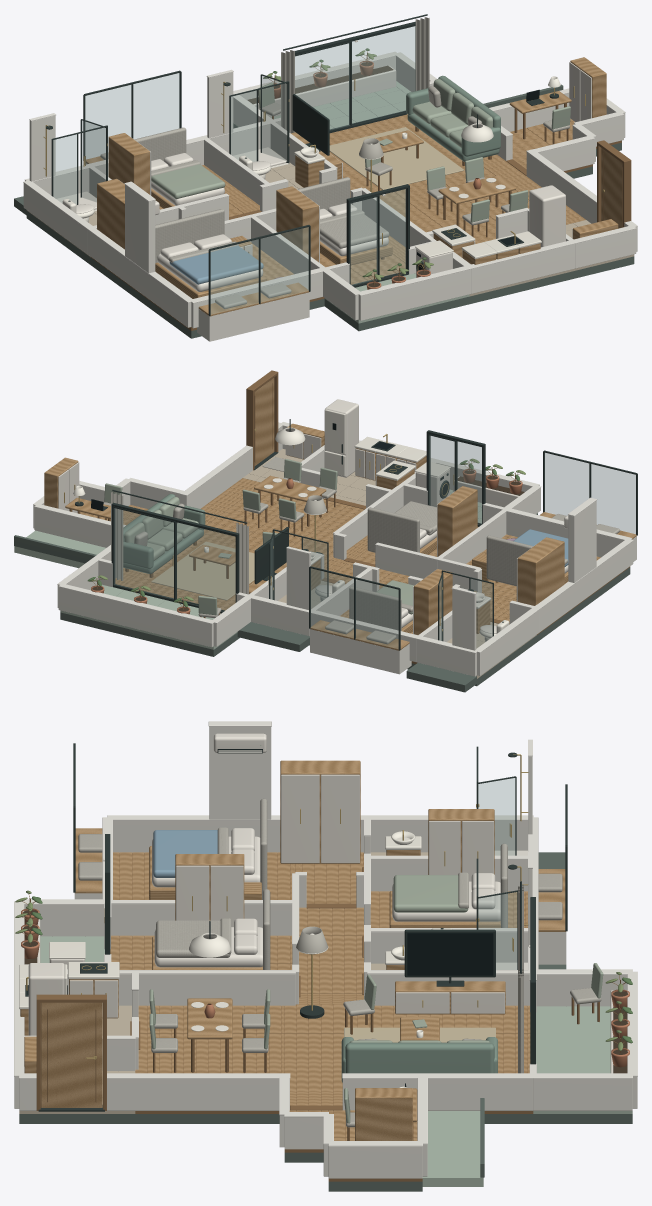
Rendered from future-home-large-flat-128-v0.2.glb.
3 renders of one model, top to bottom at view 1: azimuth 30°, elevation 25°; view 2: azimuth 150°, elevation 25°; view 3: azimuth 270°, elevation 25°, orthographic. The views are drawn at different scales.
Visible parts, largest first — view 1: bay_glass, architecture, bay_glass.001, slider_glass.001, living_room__floor, slider_glass, bedroom__decor_4, living_rug, bedroom_secondary__decor_1, dining_room__floor, wall_laundry_s__lower, master_bay_base (+81 smaller); view 2: architecture, bay_glass.001, bay_glass, slider_glass.001, dining_room__floor, slider_glass, wall_balcony_n__lower, bedroom__decor_4, bedroom_secondary__decor_0, bedroom_guest__decor_4, living_room__floor, living_rug (+65 smaller); view 3: living_room__floor, bedroom__decor_7, architecture, dining_room__floor, entry_door__leaf, bedroom_secondary__decor_3, wall_living_e_tail__lower, bedroom_guest__decor_7, hallway__floor, balcony__floor, living_room__decor_7, bedroom__floor (+58 smaller).
Boxes of the visible parts, x1,y1,x2,y2 form: bay_glass: [211, 227, 308, 314]; architecture: [14, 84, 634, 338]; bay_glass.001: [85, 73, 179, 158]; slider_glass.001: [352, 26, 415, 123]; living_room__floor: [329, 114, 528, 209]; slider_glass: [295, 43, 349, 129]; bedroom__decor_4: [97, 178, 308, 316]; living_rug: [329, 127, 464, 189]; bedroom_secondary__decor_1: [276, 186, 392, 265]; dining_room__floor: [396, 178, 585, 243]; wall_laundry_s__lower: [358, 269, 471, 320]; master_bay_base: [197, 292, 309, 341]; architecture: [14, 497, 630, 692]; bay_glass.001: [311, 568, 398, 648]; bay_glass: [545, 453, 635, 533]; slider_glass.001: [114, 508, 173, 598]; dining_room__floor: [201, 478, 364, 552]; slider_glass: [177, 522, 235, 610]; wall_balcony_n__lower: [58, 587, 213, 647]; bedroom__decor_4: [472, 512, 636, 605]; bedroom_secondary__decor_0: [367, 501, 436, 552]; bedroom_guest__decor_4: [310, 569, 452, 650]; living_room__floor: [115, 521, 333, 610]; living_rug: [151, 541, 254, 600]; living_room__floor: [284, 1004, 533, 1113]; bedroom__decor_7: [152, 774, 359, 887]; architecture: [19, 852, 632, 1191]; dining_room__floor: [135, 1005, 284, 1113]; entry_door__leaf: [40, 1002, 102, 1107]; bedroom_secondary__decor_3: [154, 865, 262, 967]; wall_living_e_tail__lower: [107, 1078, 289, 1110]; bedroom_guest__decor_7: [392, 821, 500, 921]; hallway__floor: [299, 907, 363, 1004]; balcony__floor: [533, 1006, 632, 1113]; living_room__decor_7: [341, 1037, 497, 1082]; bedroom__floor: [113, 852, 363, 903].
Bounding box in the file's own units: 14.14 × 3 × 11.29.
30 materials, 2 textured.
